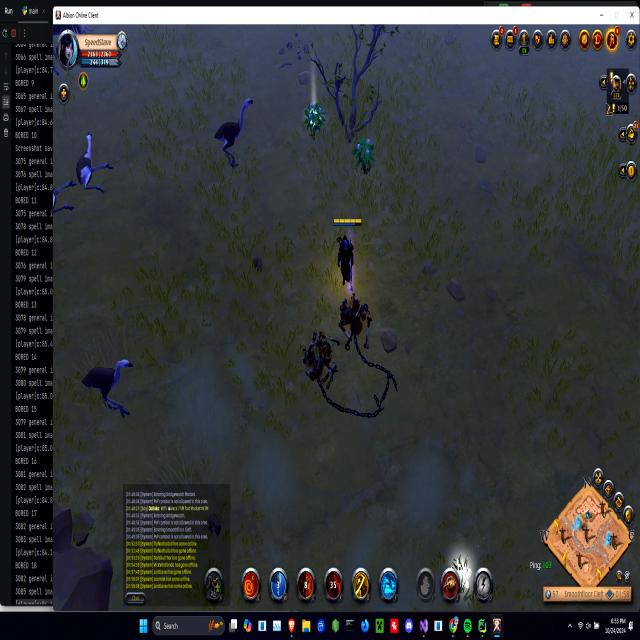hide: (352, 132, 377, 180), (302, 97, 326, 144)
mob: (76, 127, 118, 198)
ore: (78, 347, 138, 425), (212, 95, 258, 173)
red: (330, 211, 363, 296)
